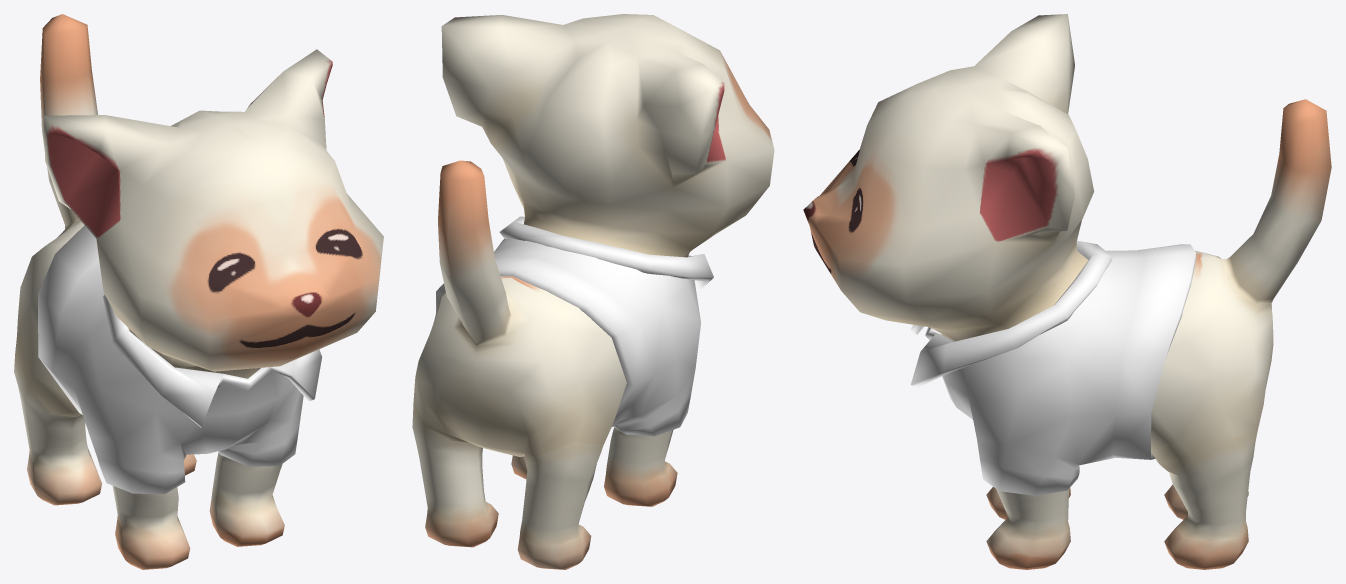
The model's file is Staff Cat02.fbx.
3 views of the same model, side by side, from view 1: azimuth 30°, elevation 25°; view 2: azimuth 150°, elevation 25°; view 3: azimuth 270°, elevation 25° (orthographic). The views are drawn at different scales.
Parts seen in each view (by area): view 1: Cat_Base001, Staff_Cat_shirt; view 2: Cat_Base001, Staff_Cat_shirt; view 3: Cat_Base001, Staff_Cat_shirt.
Part boxes in pixels (x1,y1,x2,y2): Cat_Base001: (14, 14, 383, 569); Staff_Cat_shirt: (38, 225, 321, 493); Cat_Base001: (412, 14, 774, 569); Staff_Cat_shirt: (436, 216, 713, 436); Cat_Base001: (803, 14, 1331, 569); Staff_Cat_shirt: (910, 240, 1196, 495).
Bounding box in the file's own units: 1.75 × 2.83 × 2.68.
Materials: 2 (1 with a texture image).
